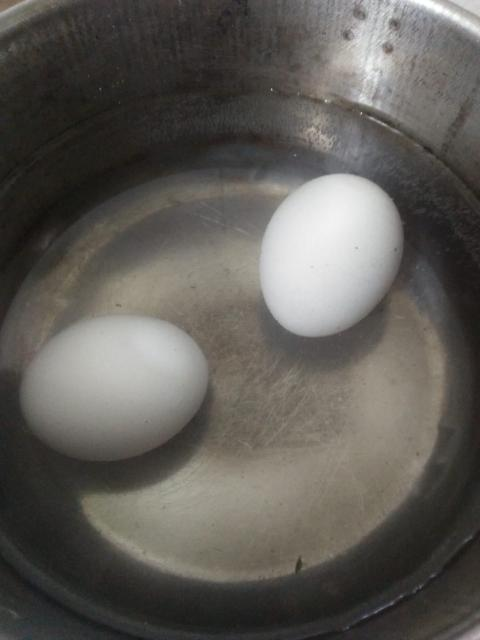Sano: (17, 314, 209, 461), (260, 174, 403, 338)
